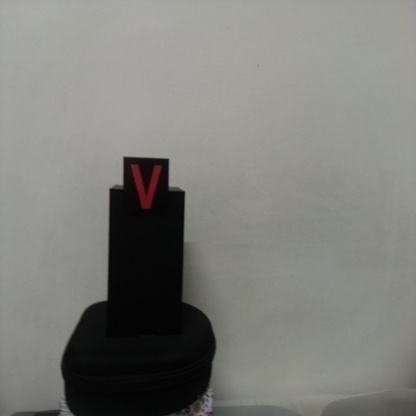id_11: (123, 156, 169, 220)
